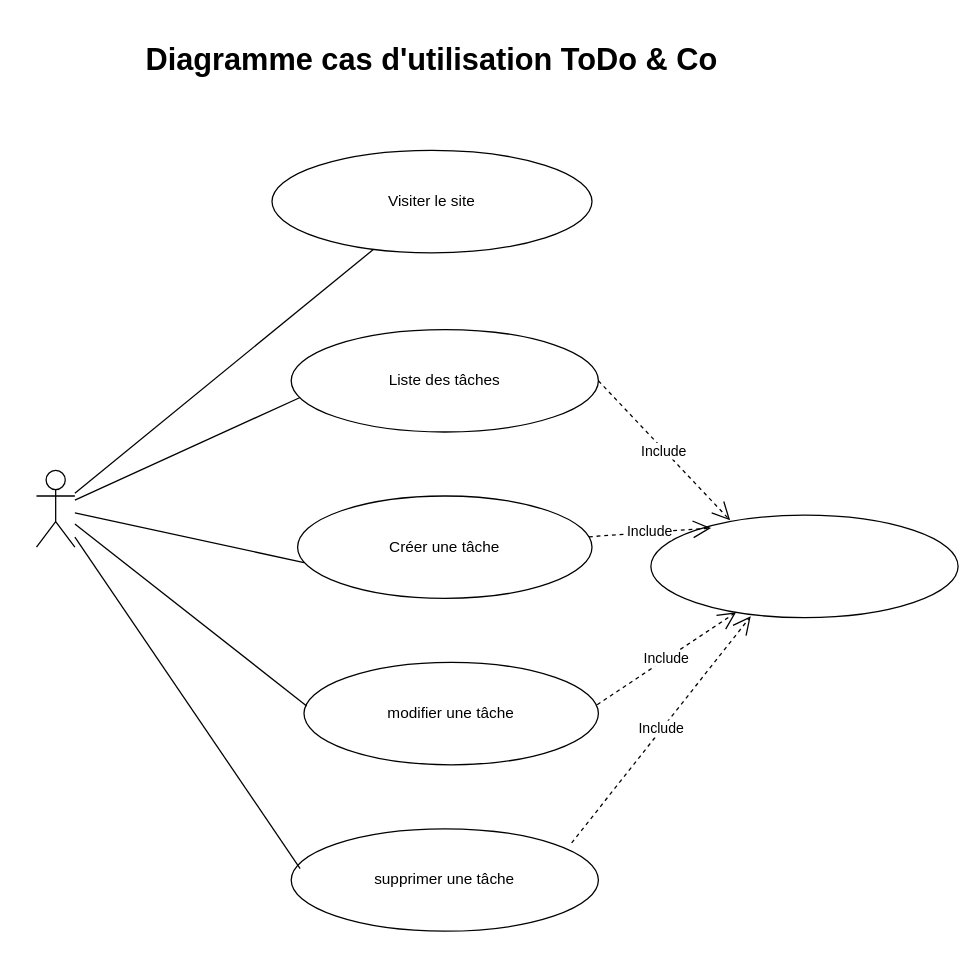
This 980x954 diagram has some shape labels left out. The shapes that lost their labels are listed below. From the top down, each one's centre as x and y in pixels, then its label:
At point 55,508: "Utilisateur".
At point 804,566: "Authentification/Autorisation".
